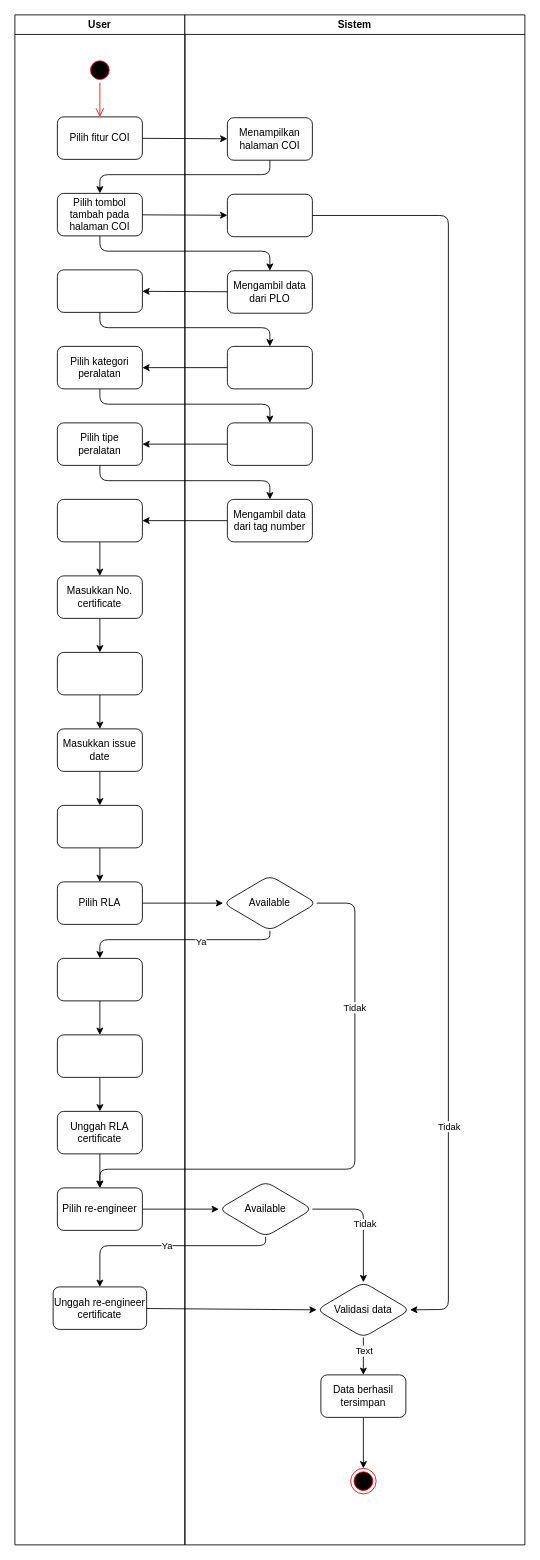
The diagram is 540 pixels wide and 1560 high, and some of its shapes have lost their labels. The shapes that lost their labels are listed below. From the top down, each one's centre as x and y in pixels, then its label:
At (269,215): "Menampilkan halaman tambah data COI".
At (99,290): "Pilih PLO".
At (269,367): "Mengambil data dari kategori peralatan".
At (269,443): "Mengambil data dari tipe peralatan".
At (99,520): "Pilih tag number".
At (99,673): "Unggah COI certificate".
At (99,826): "Masukkan RLA inspection due date".
At (99,979): "Masukkan RLA issue date".
At (99,1055): "Masukkan RLA due date".
